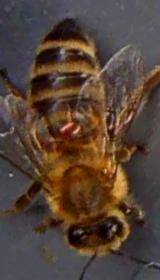varroa_mite: (55, 117, 84, 142)
